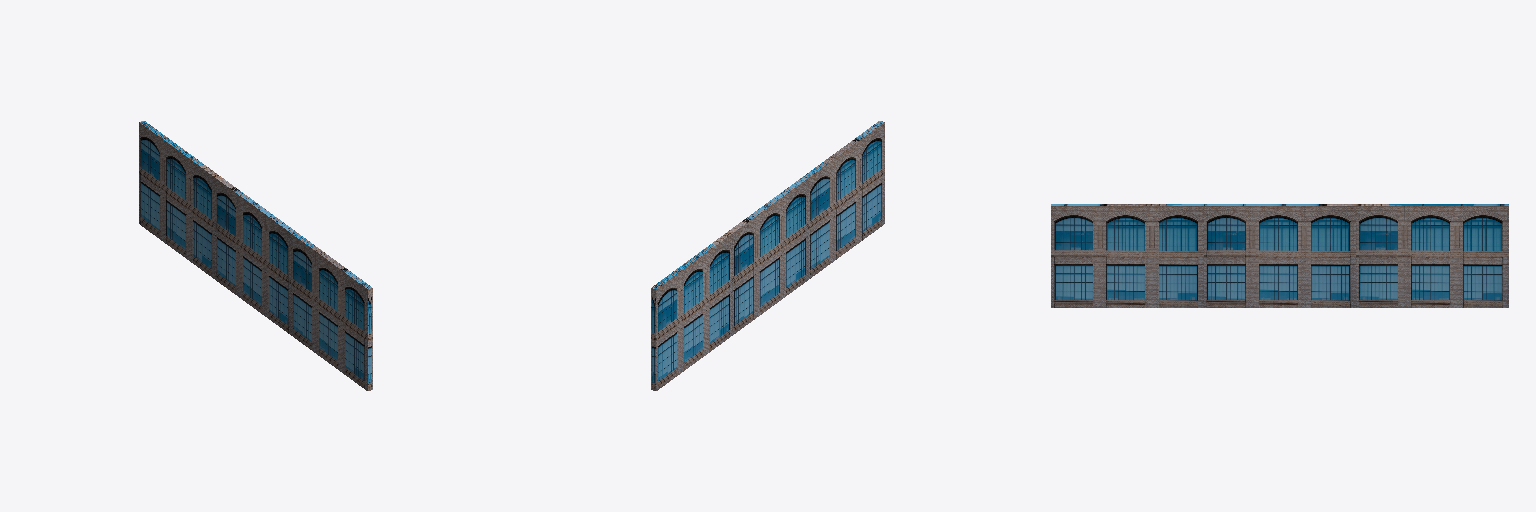
3 renders of one model, left to right at view 1: azimuth 30°, elevation 25°; view 2: azimuth 150°, elevation 25°; view 3: azimuth 270°, elevation 25°, orthographic.
Parts seen in each view (by area): view 1: Izquierda2; view 2: Izquierda2; view 3: Izquierda2.
Boxes of the visible parts, x1,y1,x2,y2 form: Izquierda2: [139, 121, 372, 390]; Izquierda2: [651, 121, 884, 390]; Izquierda2: [1051, 204, 1508, 307].
Bounding box in the file's own units: 10.73 × 191 × 776.
1 materials, 1 textured.